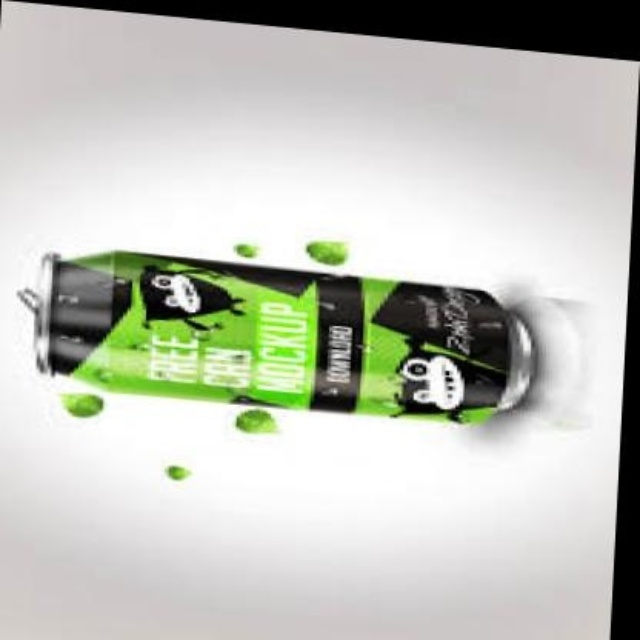trash: (20, 251, 534, 422)
